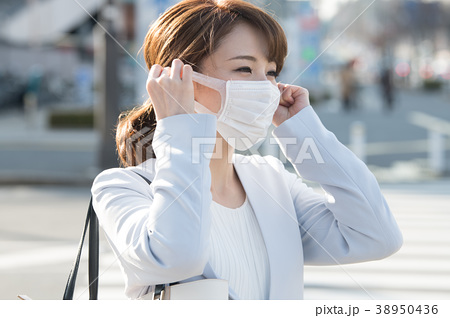mask: (212, 73, 281, 155)
